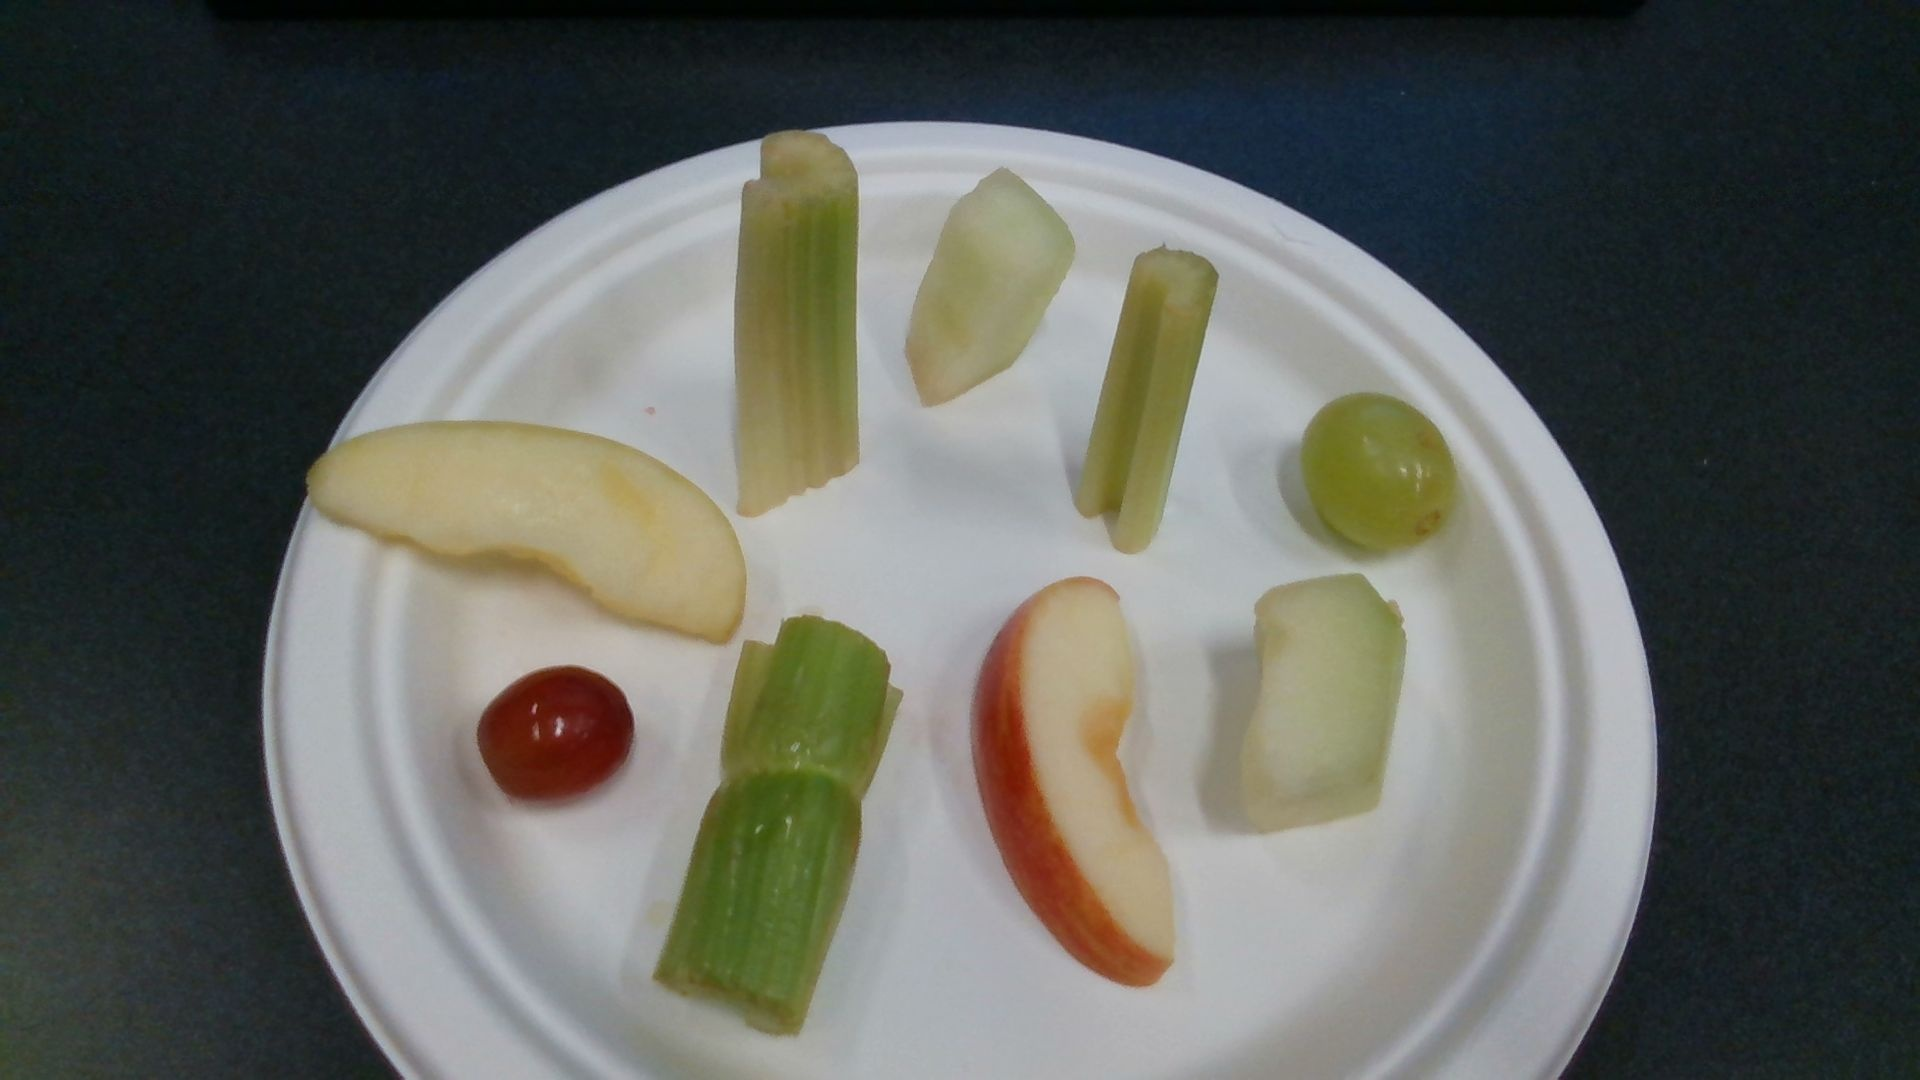apple: (307, 425, 744, 641), (975, 578, 1175, 985)
cantalope: (1240, 576, 1404, 831), (909, 170, 1073, 400)
celery: (655, 616, 899, 1031), (735, 133, 858, 513), (1083, 248, 1218, 551)
grape_green: (1304, 396, 1458, 553)
grape_purple: (477, 666, 636, 803)
